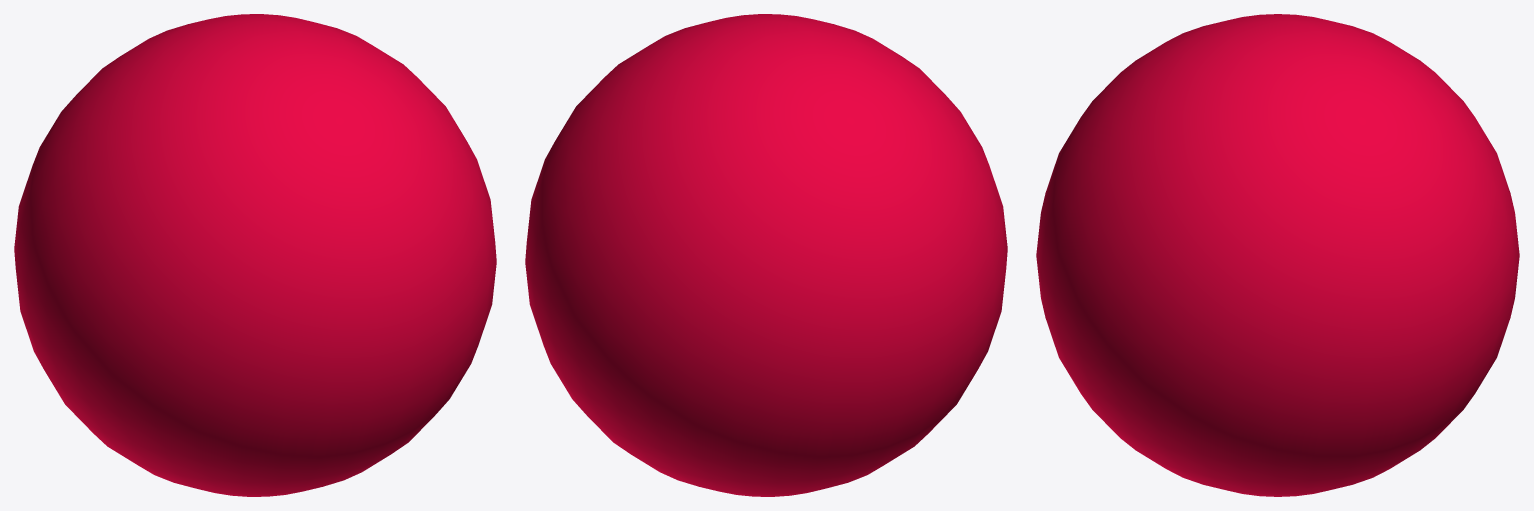
The picture shows the model from 3 angles, left to right: view 1: azimuth 30°, elevation 25°; view 2: azimuth 150°, elevation 25°; view 3: azimuth 270°, elevation 25°; orthographic projection.
Parts seen in each view (by area): view 1: Sphere.002; view 2: Sphere.002; view 3: Sphere.002.
Boxes of the visible parts, x1,y1,x2,y2 form: Sphere.002: [14, 14, 496, 496]; Sphere.002: [525, 14, 1007, 496]; Sphere.002: [1036, 14, 1519, 496].
Bounding box in the file's own units: 211 × 211 × 211.
